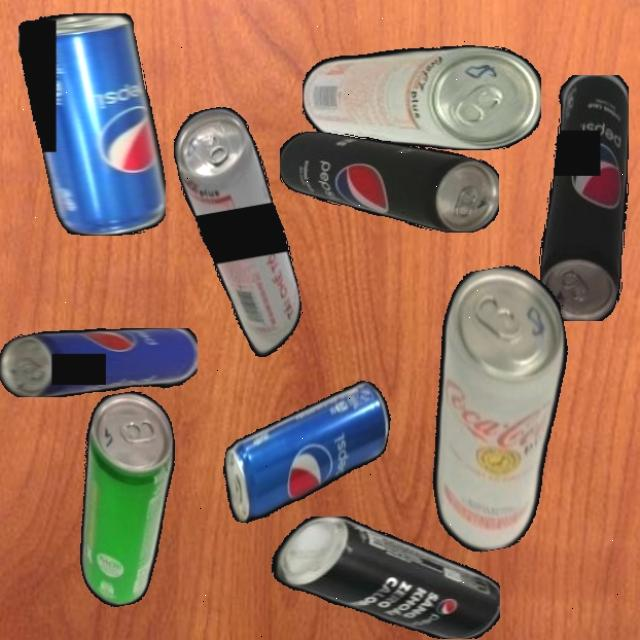debris: (398, 258, 600, 558), (168, 100, 308, 365), (215, 360, 396, 544), (18, 13, 166, 236), (54, 386, 200, 611), (265, 516, 500, 639), (302, 45, 541, 150), (538, 74, 629, 321), (279, 132, 499, 232), (0, 327, 198, 397)
